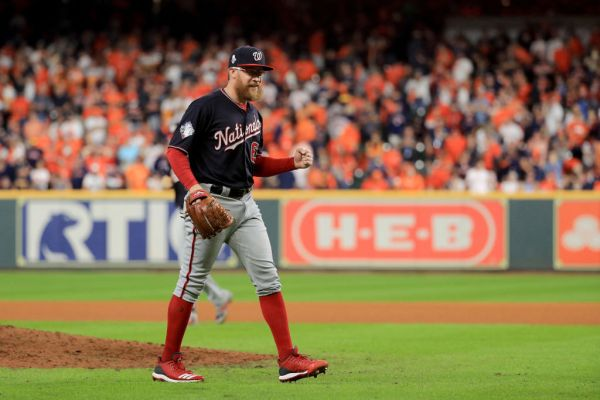LeftAnkle: (271, 340, 329, 383)
LeftKnee: (244, 255, 288, 299)
LeftWrist: (291, 135, 325, 176)
RightAnkle: (153, 340, 199, 387)
RightElbow: (160, 134, 193, 174)
RightKnee: (168, 251, 211, 298)
RightShoulder: (182, 83, 219, 135)
Torso: (208, 114, 254, 181)
